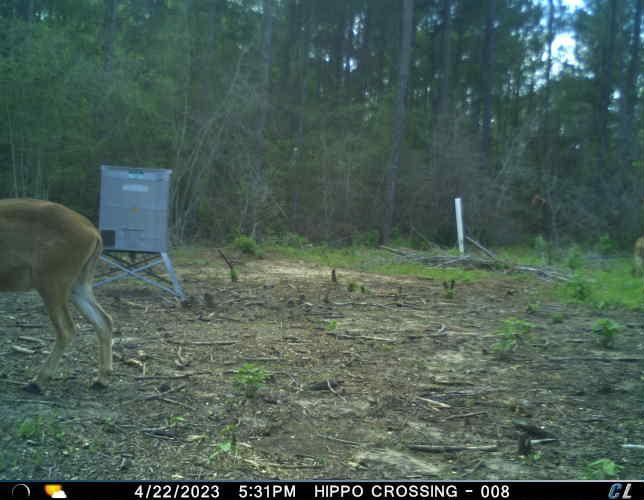Deer: (0, 191, 119, 403), (632, 232, 644, 282)
